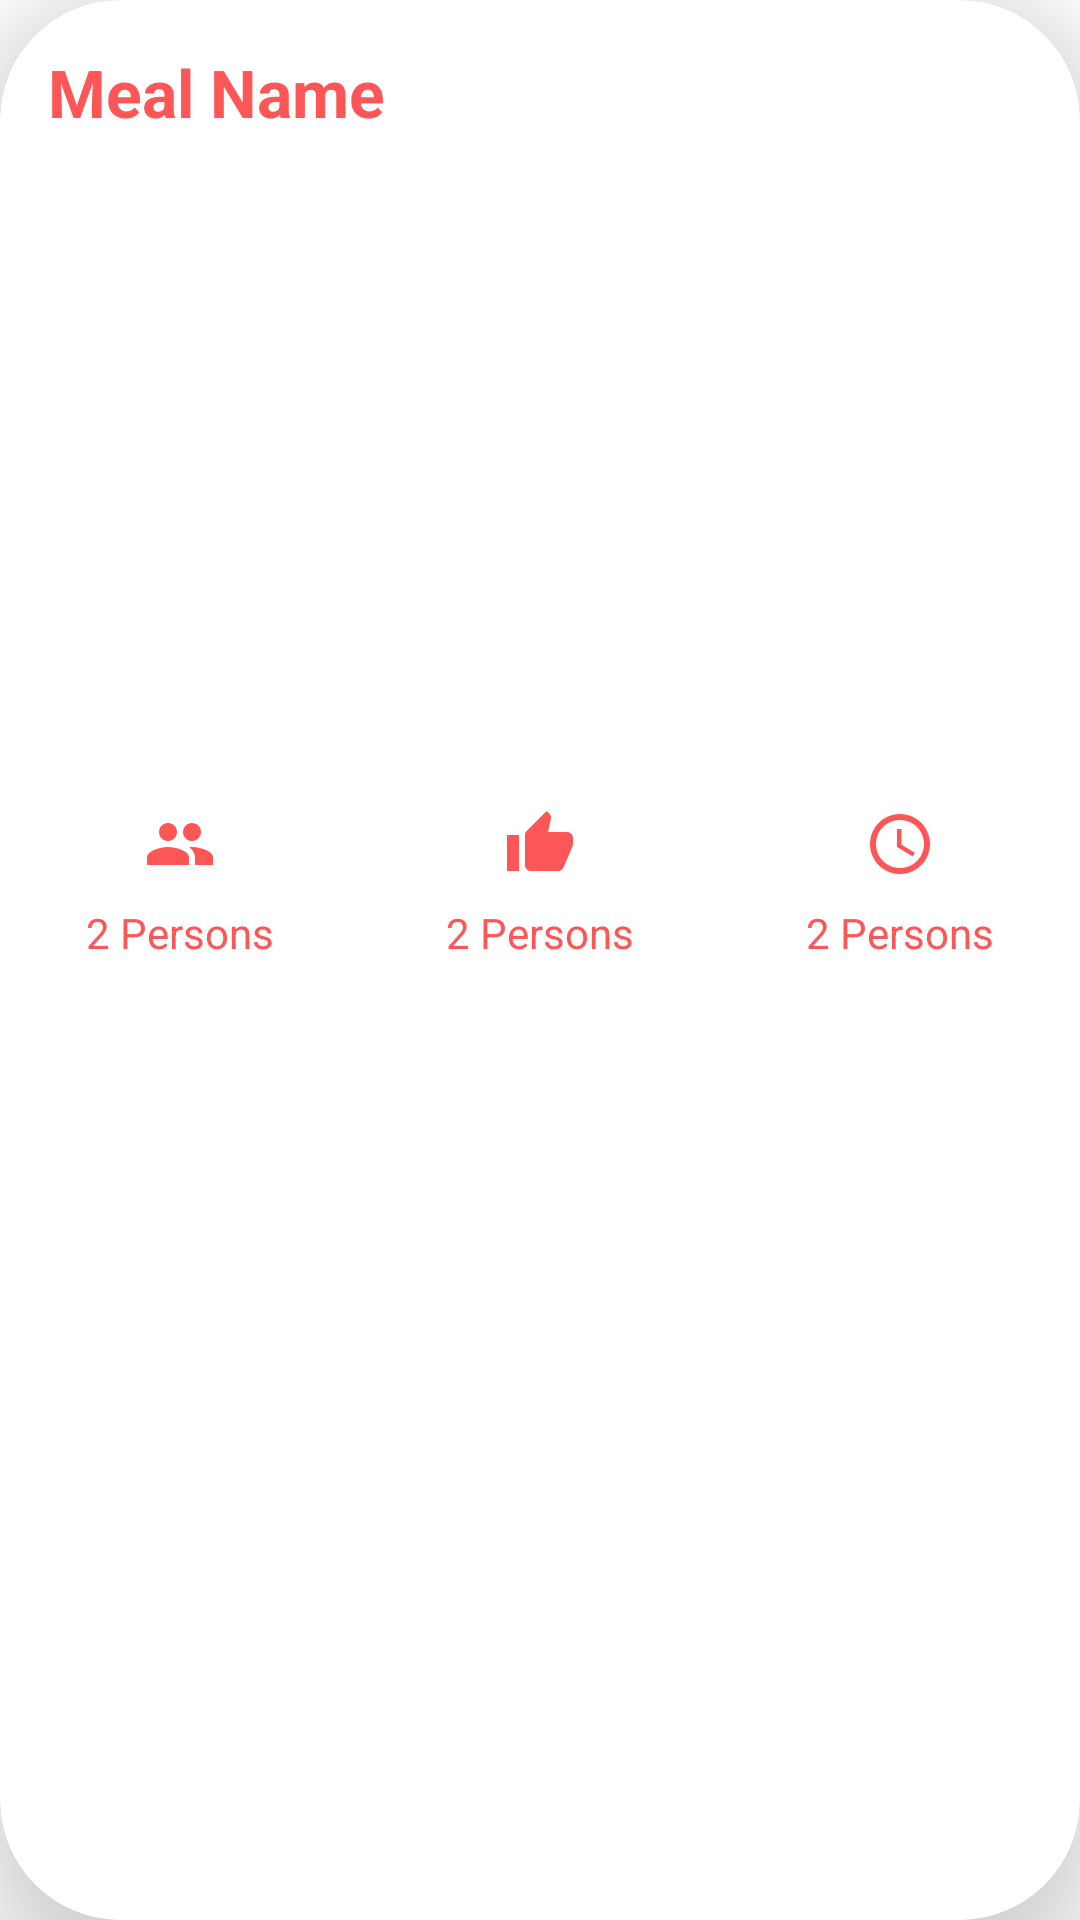

Icons on this 1080×1920 Android screen, each with the point to tap as point (x, y):
like: point (540, 841)
servings: point (180, 844)
time: point (900, 844)
